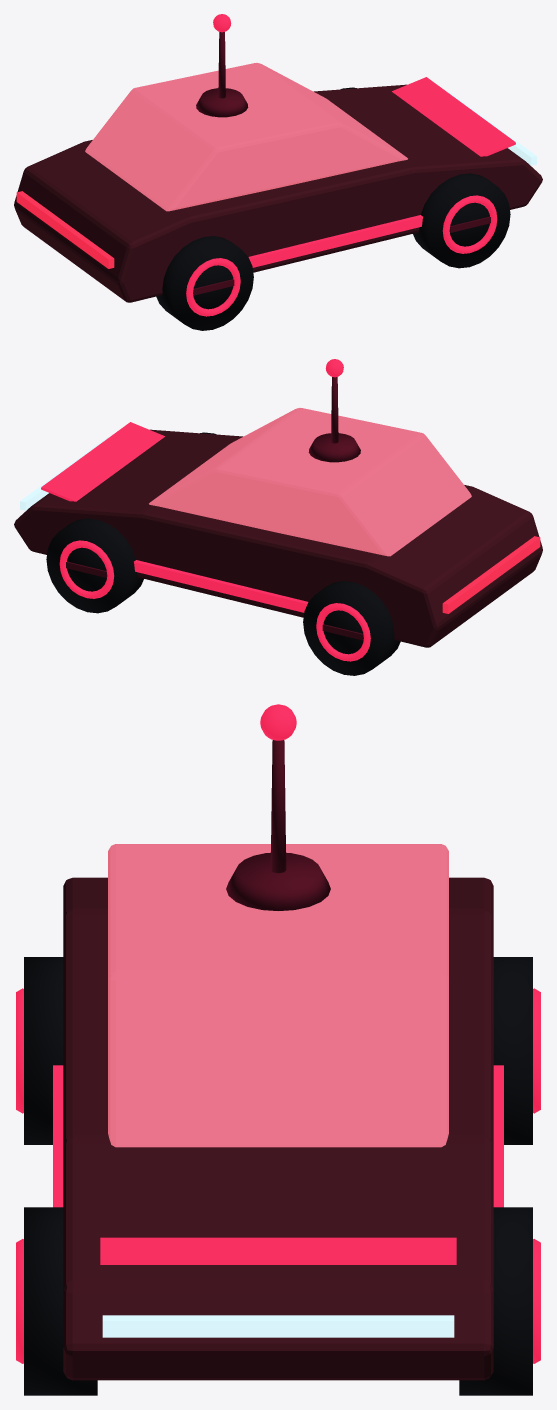
File: legacy_vehicle.glb
3 views of the same model, one above another, from view 1: azimuth 30°, elevation 25°; view 2: azimuth 150°, elevation 25°; view 3: azimuth 270°, elevation 25° (orthographic). The views are drawn at different scales.
Parts seen in each view (by area): view 1: Chassis, Cabin, LightBlades, Tyre_RR, Tyre_FR, RoofAntenna, TailLights, Rim_RR, Rim_FR, Headlights; view 2: Chassis, Cabin, LightBlades, Tyre_RL, Tyre_FL, RoofAntenna, TailLights, Rim_RL, Rim_FL, Headlights; view 3: Chassis, Cabin, LightBlades, Tyre_FL, Tyre_FR, Headlights, Tyre_RL, Tyre_RR, RoofAntenna, AntennaTip, Rim_RL, Rim_RR (+2 smaller).
Part boxes in pixels (<box>): Chassis: <box>14,84,542,302</box>; Cabin: <box>85,63,407,211</box>; LightBlades: <box>248,77,515,267</box>; Tyre_RR: <box>156,236,253,330</box>; Tyre_FR: <box>413,173,510,268</box>; RoofAntenna: <box>196,32,248,117</box>; TailLights: <box>16,191,114,268</box>; Rim_RR: <box>186,258,240,316</box>; Rim_FR: <box>442,195,497,253</box>; Headlights: <box>447,92,536,165</box>; Chassis: <box>14,429,542,647</box>; Cabin: <box>149,408,471,556</box>; LightBlades: <box>41,422,308,612</box>; Tyre_RL: <box>303,581,400,675</box>; Tyre_FL: <box>46,518,143,613</box>; RoofAntenna: <box>308,377,360,462</box>; TailLights: <box>442,536,540,613</box>; Rim_RL: <box>316,603,370,661</box>; Rim_FL: <box>59,540,114,598</box>; Headlights: <box>20,437,109,510</box>; Chassis: <box>63,877,493,1380</box>; Cabin: <box>108,844,448,1147</box>; LightBlades: <box>53,1065,503,1264</box>; Tyre_FL: <box>459,1207,532,1395</box>; Tyre_FR: <box>24,1207,97,1395</box>; Headlights: <box>102,1315,454,1337</box>; Tyre_RL: <box>493,957,532,1144</box>; Tyre_RR: <box>24,957,63,1144</box>; RoofAntenna: <box>226,740,330,910</box>; AntennaTip: <box>260,704,296,740</box>; Rim_RL: <box>533,988,540,1113</box>; Rim_RR: <box>16,988,23,1113</box>.
Bounding box in the file's own units: 3.79 × 2.11 × 2.
